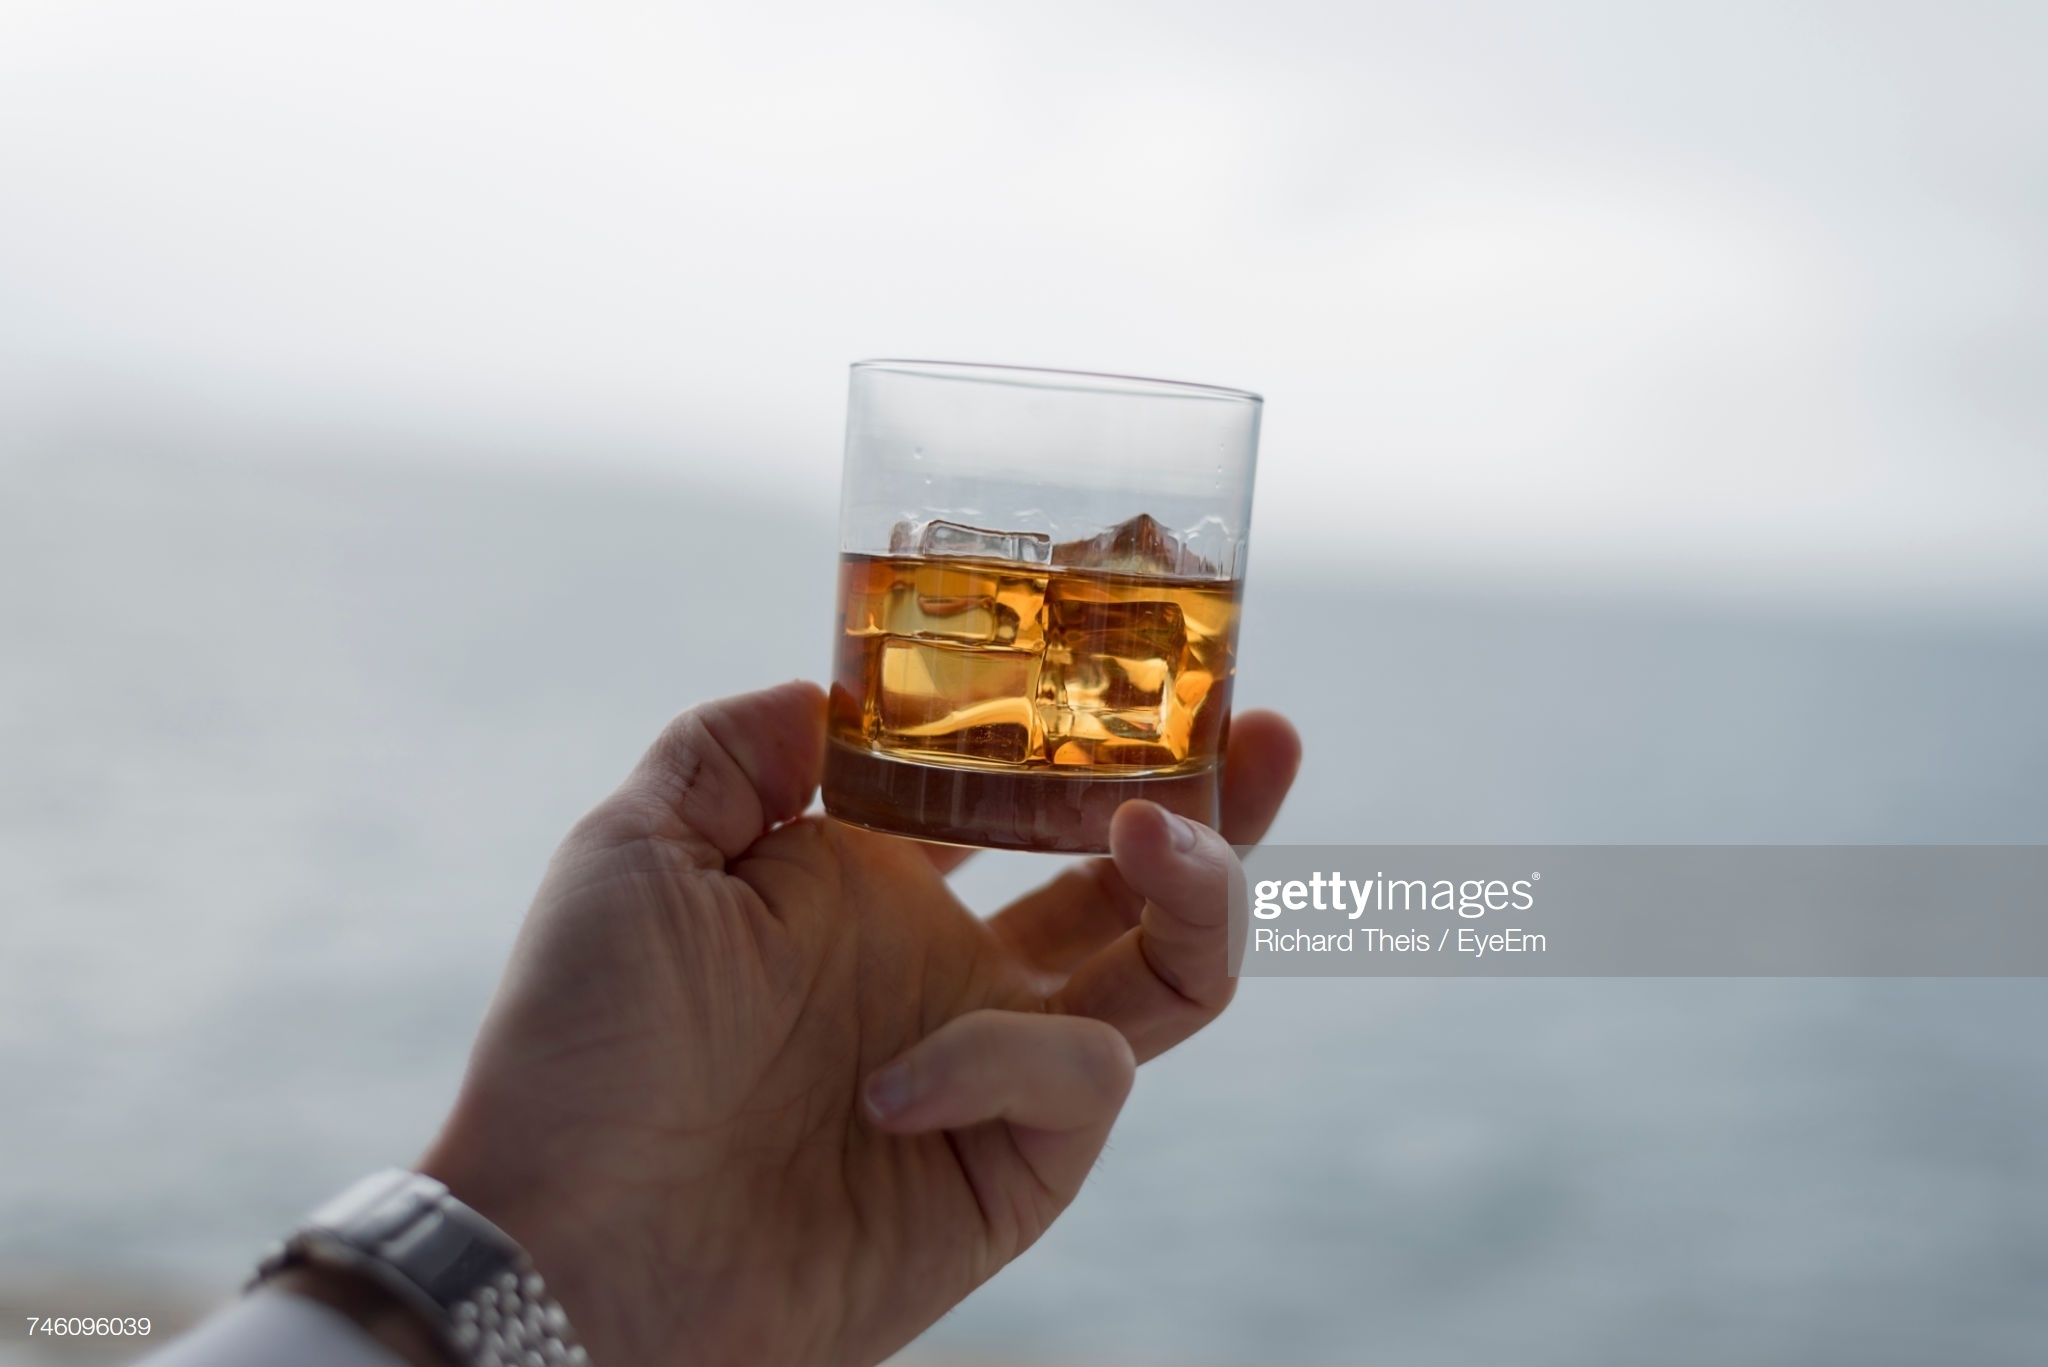whiskey: (810, 371, 1273, 854)
